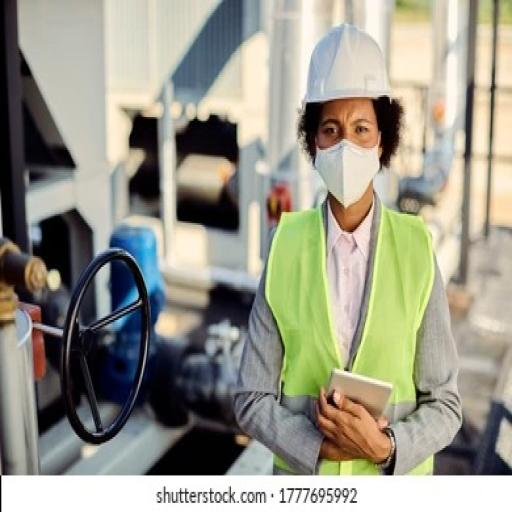mask: (310, 140, 388, 206)
